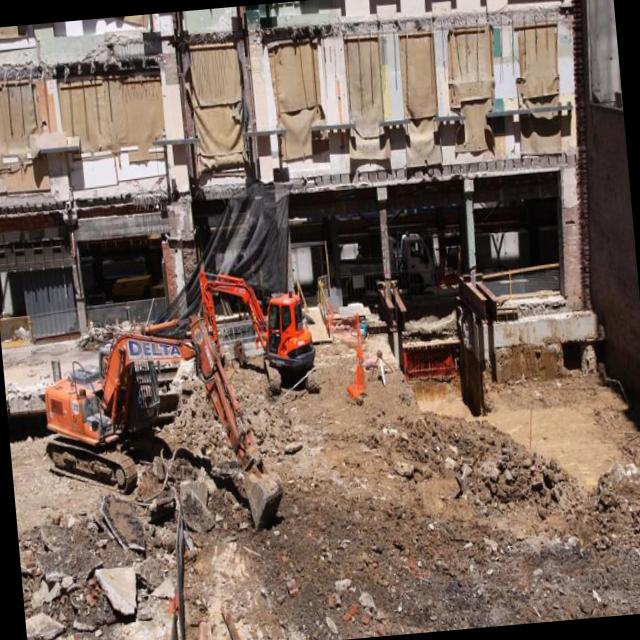Camion volquete: (327, 231, 436, 302)
Cono de seguridad: (352, 312, 363, 360)
Excavadora: (34, 324, 286, 550), (196, 258, 322, 406)
